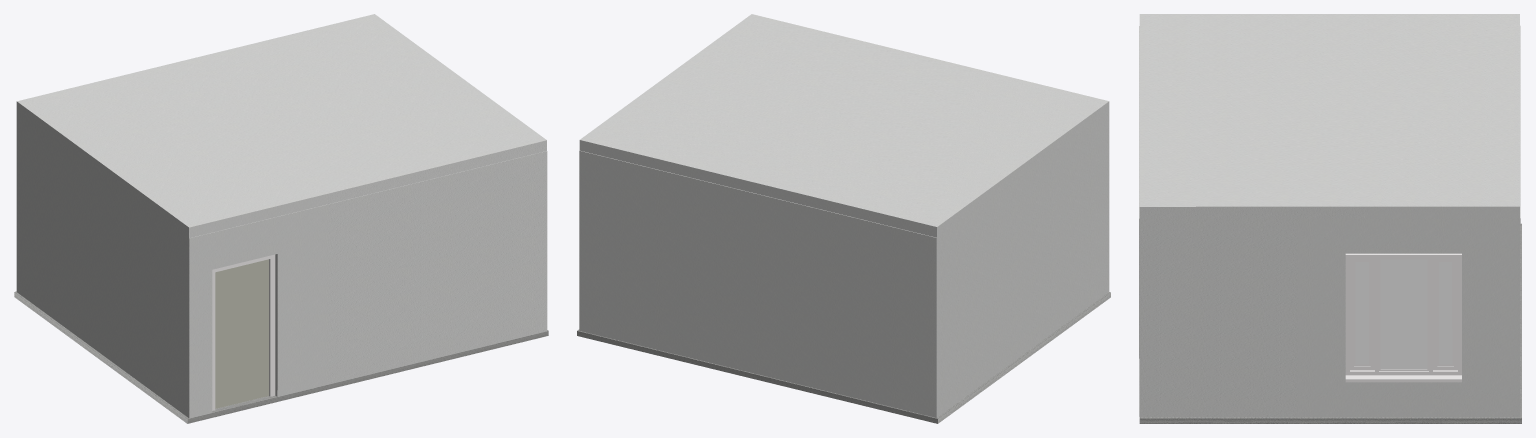
File: FloorPlan202_physics.fbx
3 views of the same model, side by side, from view 1: azimuth 30°, elevation 25°; view 2: azimuth 150°, elevation 25°; view 3: azimuth 270°, elevation 25° (orthographic). The views are drawn at different scales.
Visible parts, largest first — view 1: FP202:Ceiling.006, FP202:Ceiling.001, FP202:Ceiling.003, FP202:Floor, FP202:polySurface1; view 2: FP202:Ceiling.006, FP202:Ceiling.001, FP202:Floor; view 3: FP202:Ceiling.001, FP202:Ceiling.006, FP202:polySurface4, FP202:polySurface7, FP202:Floor.
Part boxes in pixels (<box>): FP202:Ceiling.006: <box>16,112,547,418</box>; FP202:Ceiling.001: <box>16,14,546,238</box>; FP202:Ceiling.003: <box>215,259,268,408</box>; FP202:Floor: <box>14,291,548,423</box>; FP202:polySurface1: <box>212,254,275,410</box>; FP202:Ceiling.006: <box>579,112,1109,417</box>; FP202:Ceiling.001: <box>579,14,1109,237</box>; FP202:Floor: <box>577,292,1110,423</box>; FP202:Ceiling.001: <box>1139,14,1519,218</box>; FP202:Ceiling.006: <box>1139,25,1520,417</box>; FP202:polySurface4: <box>1355,259,1452,369</box>; FP202:polySurface7: <box>1345,253,1461,382</box>; FP202:Floor: <box>1139,223,1521,423</box>.
Bounding box in the file's own units: 566 × 287 × 460.
